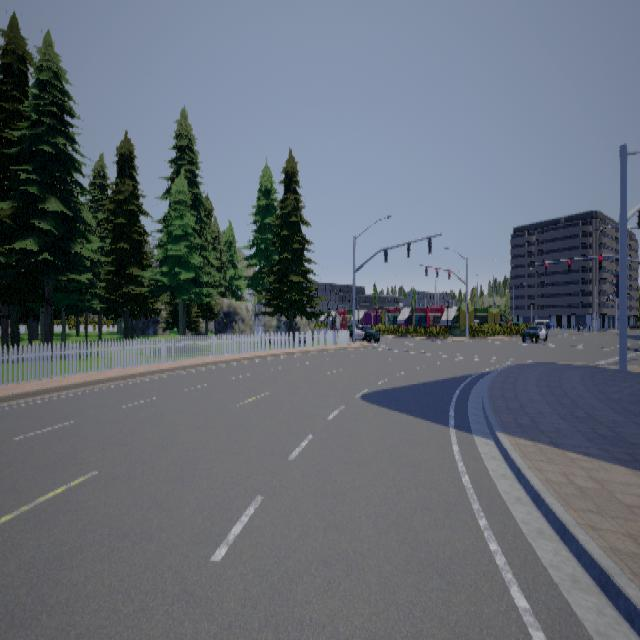red_light: (612, 273, 618, 296), (598, 254, 602, 268), (424, 266, 428, 276), (544, 261, 547, 273), (568, 258, 570, 270), (448, 268, 450, 278), (436, 267, 438, 277)
traffic_light: (635, 209, 639, 227)
vehicle: (349, 318, 381, 346), (521, 318, 551, 342)
